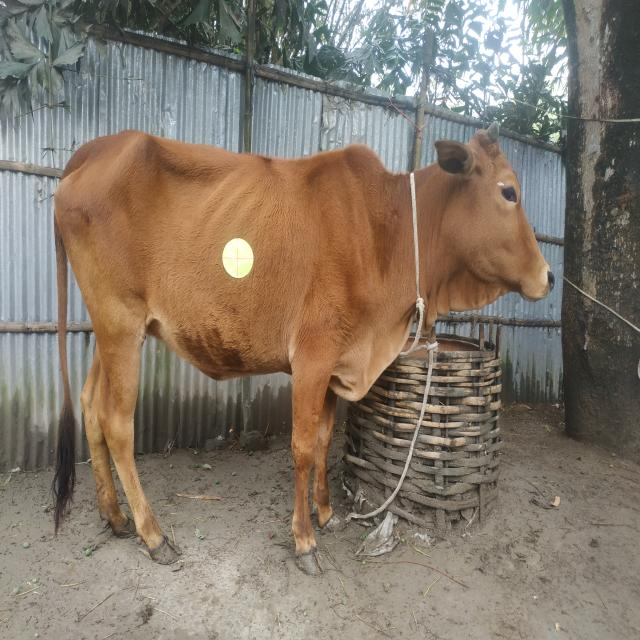badan_sapi: (59, 153, 387, 377)
sapi: (29, 90, 559, 580)
